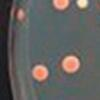pink: (57, 51, 83, 76), (28, 62, 52, 84), (48, 0, 72, 15), (13, 7, 28, 23), (72, 0, 92, 11)
